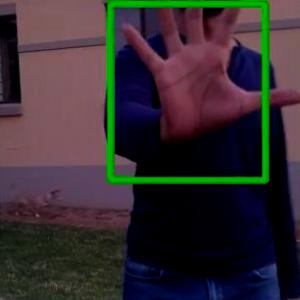follow_hand: (115, 0, 299, 154)
